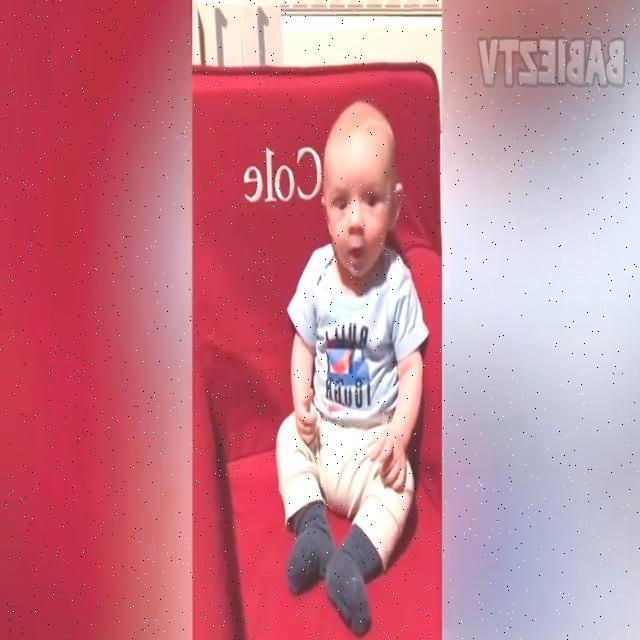child: (275, 95, 429, 635)
